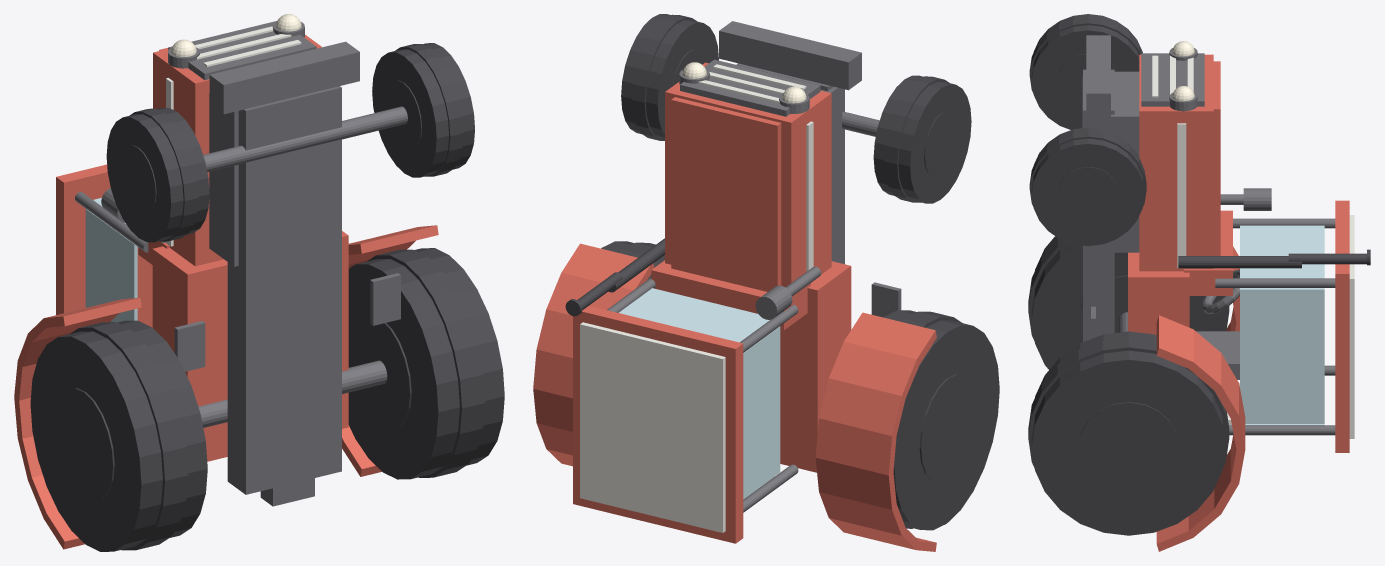
File: tractor_1.glb
3 views of the same model, side by side, from view 1: azimuth 30°, elevation 25°; view 2: azimuth 150°, elevation 25°; view 3: azimuth 270°, elevation 25° (orthographic). The views are drawn at different scales.
Visible parts, largest first — view 1: Chassis_Frame, Wheel_RL, Wheel_RR, Wheel_FL, Wheel_FR, Cabin_Lower_Body, Front_Bumper, Fender_L, Cabin_Roof, Bonnet_Main, Window_Side_L, Engine_Block (+8 smaller); view 2: Roof_Cap_Trim, Bonnet_Top_Trim, Fender_L, Wheel_RL, Wheel_FL, Bonnet_Main, Cabin_Lower_Body, Cabin_Roof, Fender_R, Wheel_FR, Front_Bumper, Window_Side_L (+14 smaller); view 3: Wheel_RR, Window_Side_R, Bonnet_Main, Wheel_FR, Wheel_RL, Fender_R, Wheel_FL, Cabin_Lower_Body, Cabin_Roof, Window_Front, Chassis_Frame, Engine_Block (+14 smaller).
Boxes of the visible parts, <box> form: Chassis_Frame: <box>227,86,341,494</box>; Wheel_RL: <box>30,320,207,551</box>; Wheel_RR: <box>348,248,504,479</box>; Wheel_FL: <box>106,108,209,242</box>; Wheel_FR: <box>372,43,474,177</box>; Cabin_Lower_Body: <box>152,231,348,461</box>; Front_Bumper: <box>209,41,359,114</box>; Fender_L: <box>14,297,141,549</box>; Cabin_Roof: <box>56,164,152,327</box>; Bonnet_Main: <box>153,34,321,266</box>; Window_Side_L: <box>85,209,137,322</box>; Engine_Block: <box>209,93,238,266</box>; Roof_Cap_Trim: <box>580,322,725,532</box>; Bonnet_Top_Trim: <box>671,97,781,291</box>; Fender_L: <box>815,312,936,551</box>; Wheel_RL: <box>883,310,999,530</box>; Wheel_FL: <box>873,75,971,203</box>; Bonnet_Main: <box>665,62,831,287</box>; Cabin_Lower_Body: <box>664,255,851,472</box>; Cabin_Roof: <box>573,306,743,543</box>; Fender_R: <box>533,243,654,466</box>; Wheel_FR: <box>621,14,718,140</box>; Front_Bumper: <box>719,21,861,90</box>; Window_Side_L: <box>743,326,780,498</box>; Wheel_RR: <box>1028,331,1229,535</box>; Window_Side_R: <box>1240,288,1324,423</box>; Bonnet_Main: <box>1139,54,1213,271</box>; Wheel_FR: <box>1029,127,1146,246</box>; Wheel_RL: <box>1028,236,1229,369</box>; Fender_R: <box>1156,315,1245,551</box>; Wheel_FL: <box>1029,14,1142,129</box>; Cabin_Lower_Body: <box>1128,252,1189,335</box>; Cabin_Roof: <box>1335,200,1349,452</box>; Window_Front: <box>1240,225,1324,278</box>; Chassis_Frame: <box>1083,69,1114,341</box>; Engine_Block: <box>1095,71,1139,252</box>.
Size of the model in its own units: 2.14 by 2.55 by 1.94.
